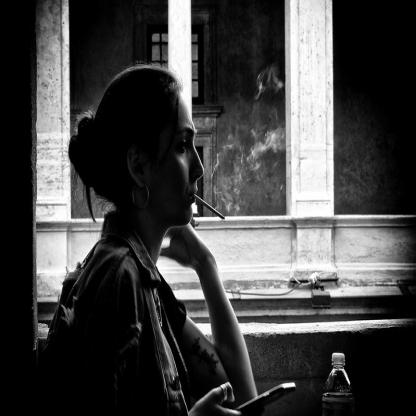smoking: (193, 193, 225, 219)
